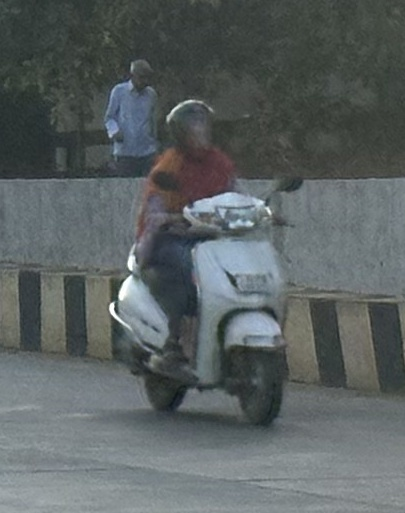BikeWithRider: (107, 92, 313, 442)
Helmet: (166, 97, 221, 159)
